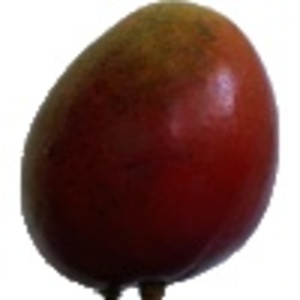manga: (21, 1, 281, 300)
